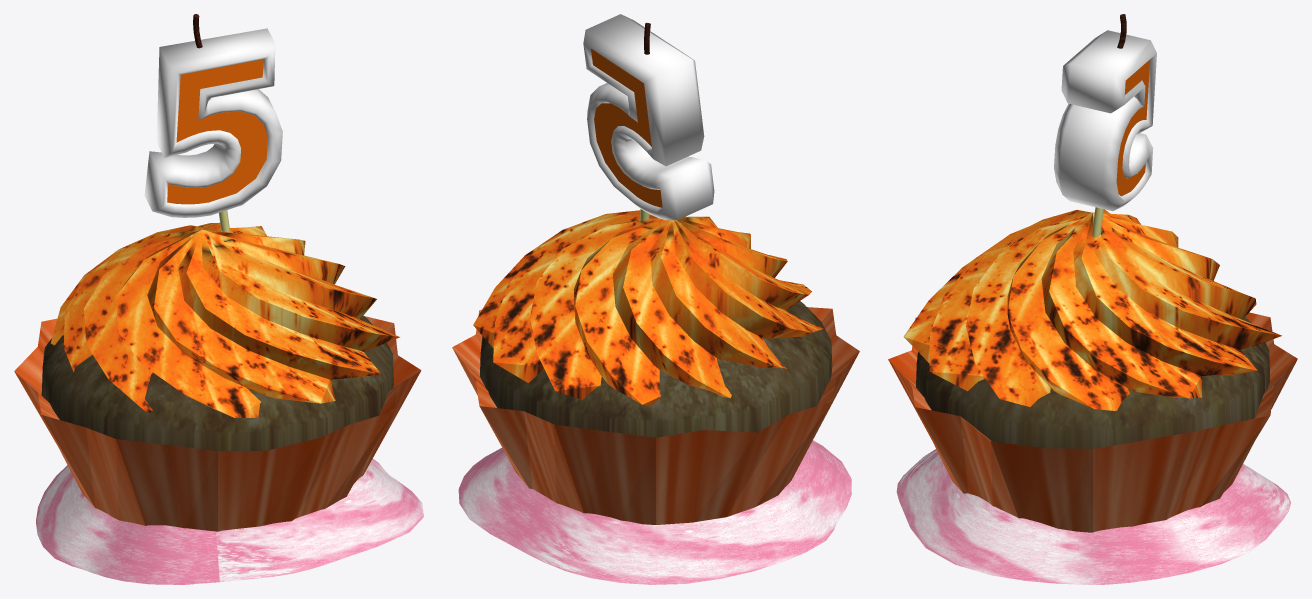
The model's file is Flag-Spawner-5.FBX.
The picture shows the model from 3 angles, left to right: view 1: azimuth 30°, elevation 25°; view 2: azimuth 150°, elevation 25°; view 3: azimuth 270°, elevation 25°; orthographic projection.
Parts seen in each view (by area): view 1: Flag-Spawner-5; view 2: Flag-Spawner-5; view 3: Flag-Spawner-5.
Part boxes in pixels (x1,y1,x2,y2): Flag-Spawner-5: (14, 14, 423, 584); Flag-Spawner-5: (452, 14, 859, 584); Flag-Spawner-5: (888, 14, 1297, 584).
Size of the model in its own units: 27.56 by 36.98 by 27.56.
